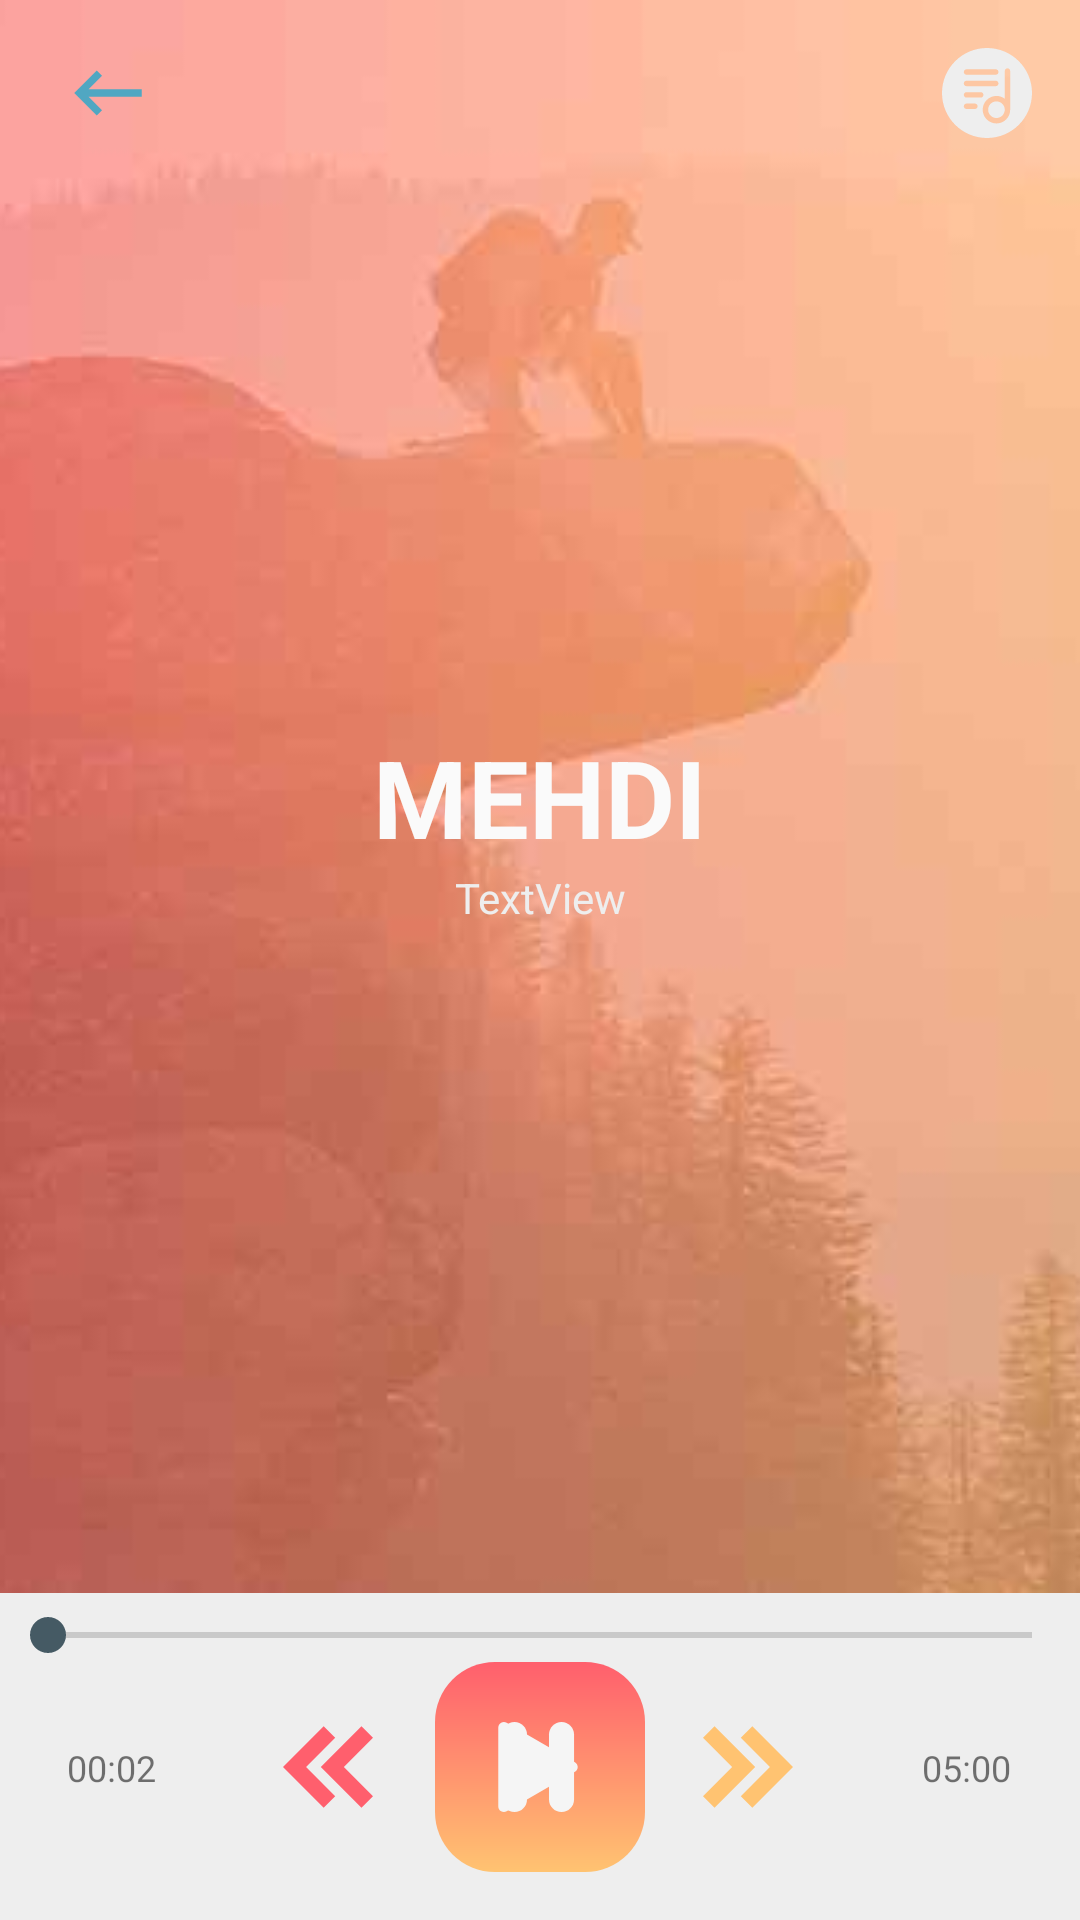

Named icons in this screenshot (1080w x 1920h) and their bounding boxes, (x1, y1, x2, y2):
fast forward: (703, 1726, 793, 1808)
playlist: (942, 48, 1032, 138)
rewind: (283, 1726, 373, 1808)
to back: (74, 70, 142, 116)
